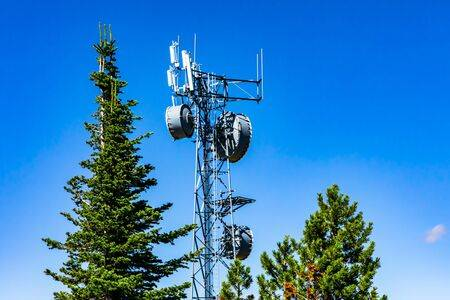a: (186, 60, 194, 91), (169, 45, 177, 64), (166, 70, 173, 87)
b: (217, 115, 250, 159), (224, 225, 252, 261), (166, 104, 191, 140)
